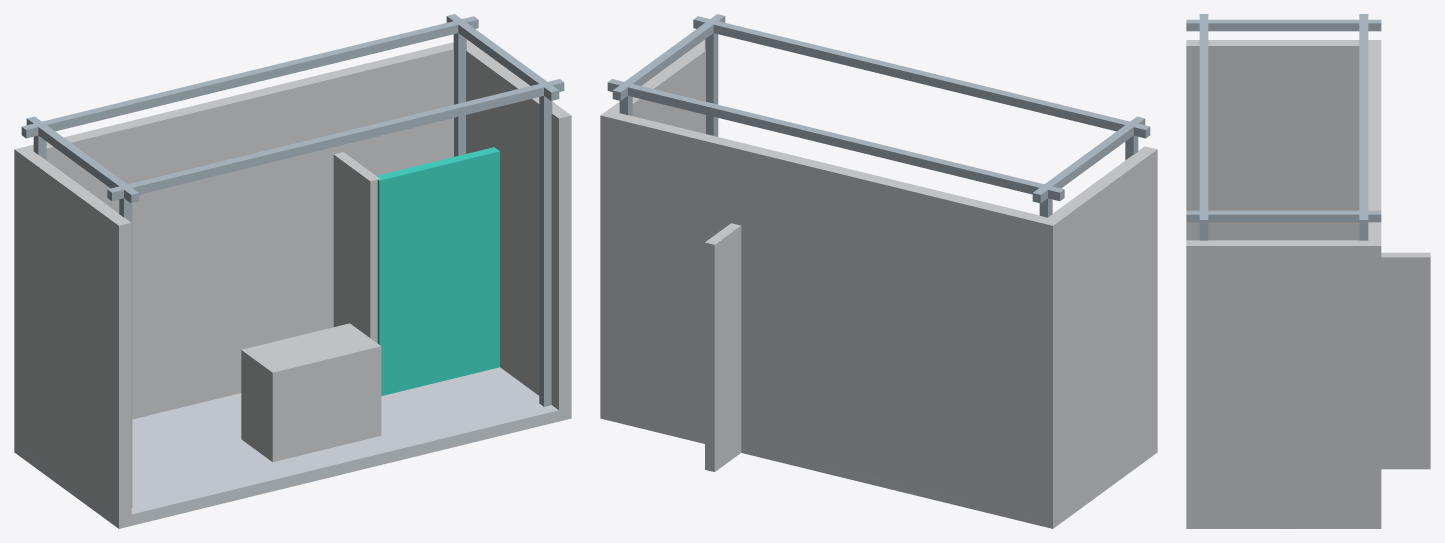
3 renders of one model, left to right at view 1: azimuth 30°, elevation 25°; view 2: azimuth 150°, elevation 25°; view 3: azimuth 270°, elevation 25°, orthographic. The views are drawn at different scales.
Visible parts, largest first — view 1: Exhibition Booth Concept; view 2: Exhibition Booth Concept; view 3: Exhibition Booth Concept.
Boxes of the visible parts, bbox=[...] form: Exhibition Booth Concept: bbox=[14, 14, 571, 528]; Exhibition Booth Concept: bbox=[600, 14, 1157, 528]; Exhibition Booth Concept: bbox=[1186, 14, 1430, 528].
Size of the model in its own units: 5 by 3.49 by 2.5.
